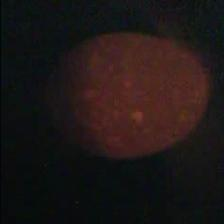fertile: (43, 33, 211, 162)
